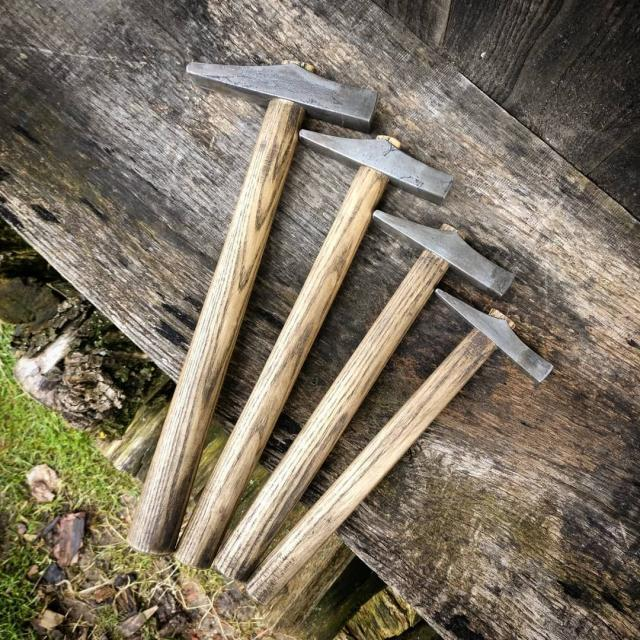hammer: (118, 52, 388, 558), (170, 120, 456, 583), (209, 206, 527, 587), (236, 281, 558, 614)
